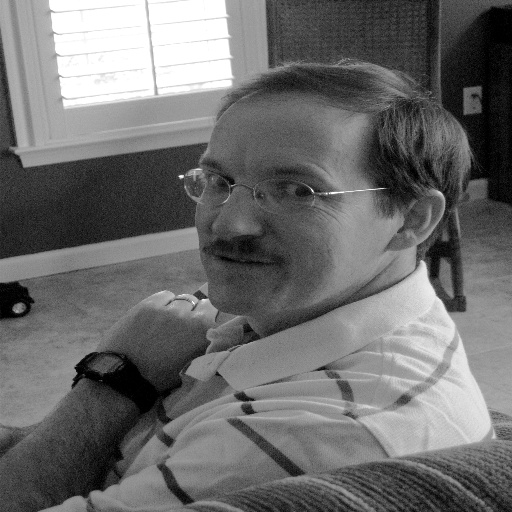hand: (15, 282, 194, 503), (97, 290, 241, 395)
